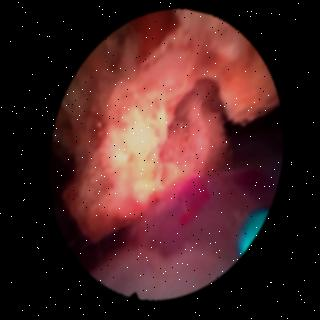fiber: (237, 209, 266, 256)
stone: (51, 12, 276, 239)
tissue: (69, 117, 280, 298)
